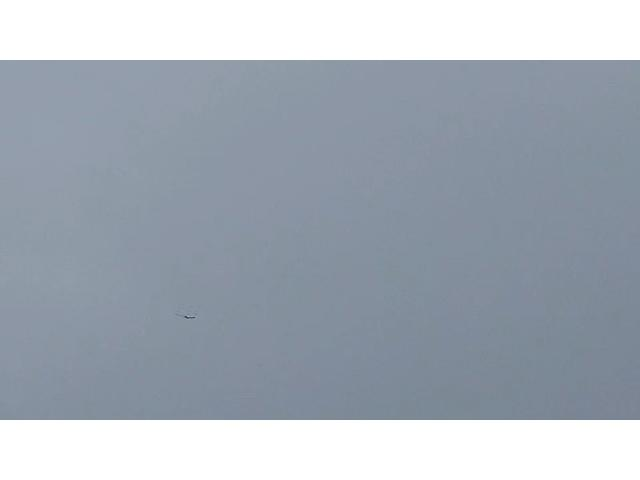Anti-Drone: (174, 312, 196, 320)
